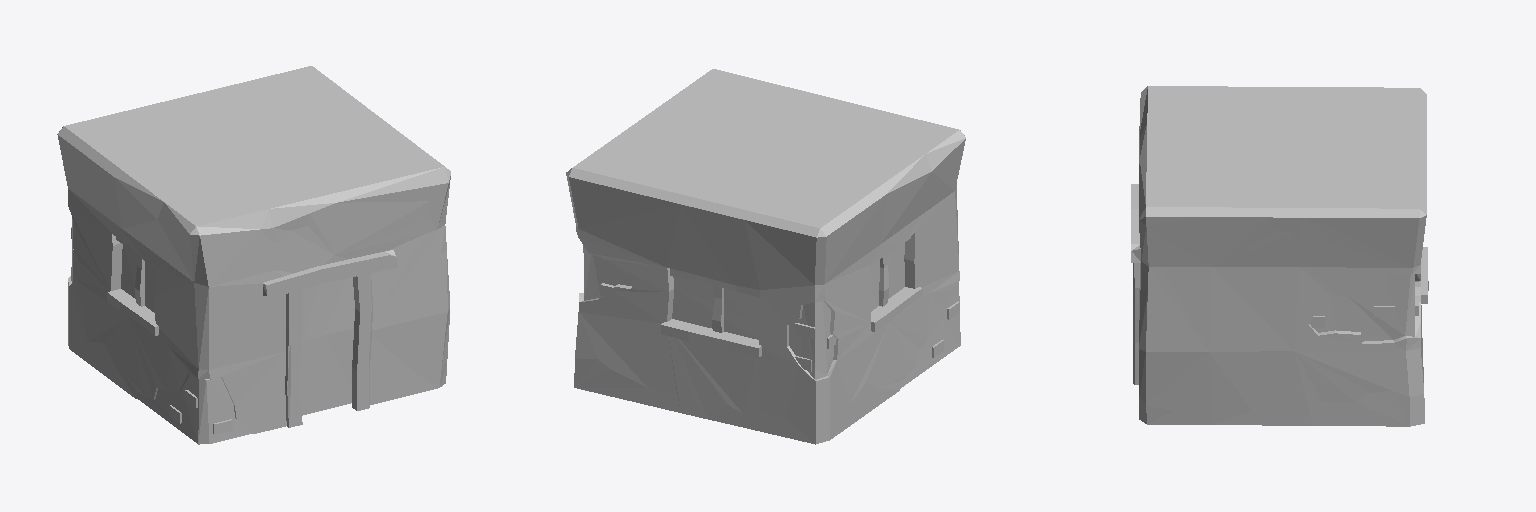
The model's file is SM_Bld_Village_05.obj.
3 renders of one model, left to right at view 1: azimuth 30°, elevation 25°; view 2: azimuth 150°, elevation 25°; view 3: azimuth 270°, elevation 25°, orthographic.
Visible parts, largest first — view 1: default; view 2: default; view 3: default.
Part boxes in pixels (x1,y1,x2,y2): default: (57,66,450,444); default: (566,69,965,444); default: (1131,86,1428,426).
Bounding box in the file's own units: 419 × 329 × 407.